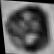correct: (2, 5, 54, 54)
